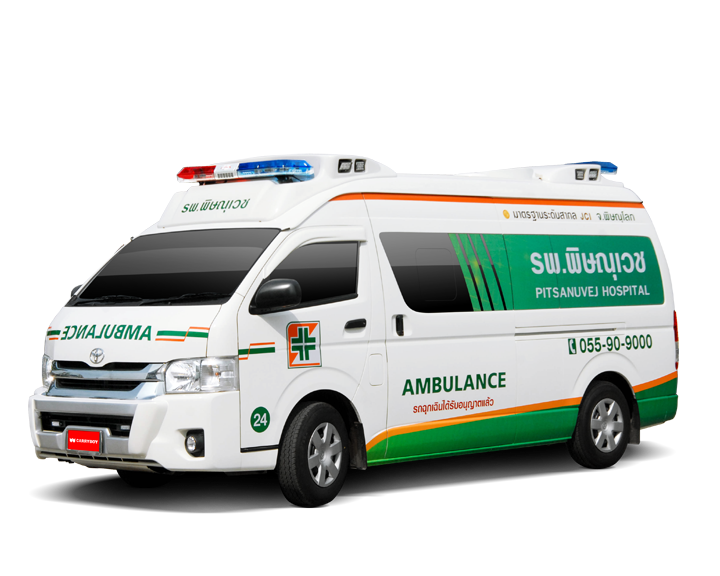van: (27, 153, 684, 508)
